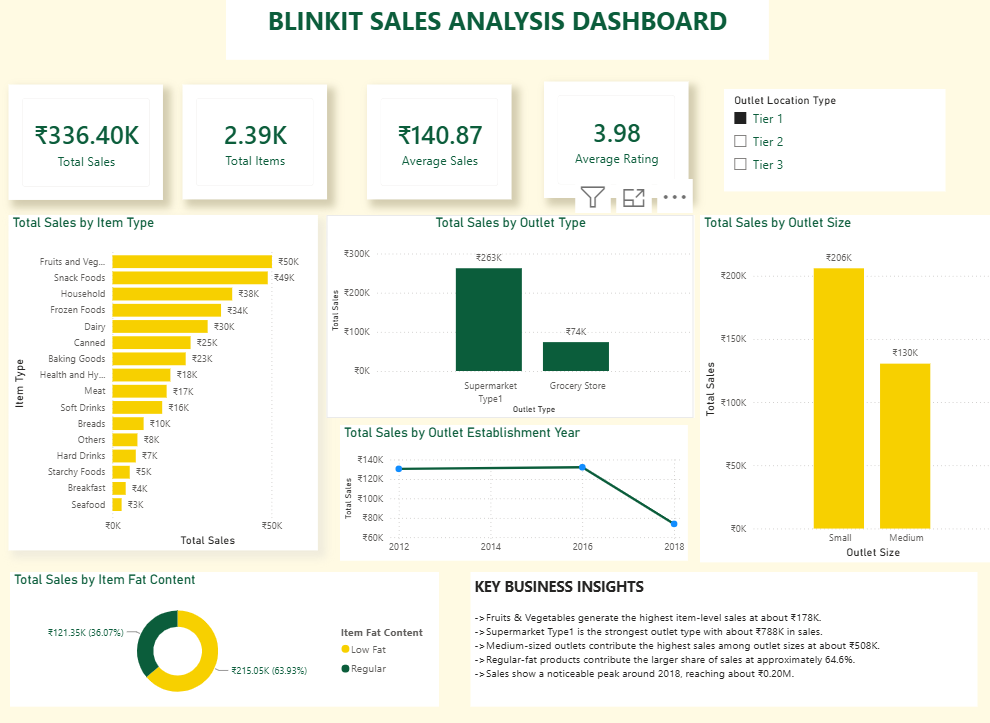

The page's visual inventory and layout, read from the dashboard file:
{"tool":"powerbi","page":{"name":"Page 1","canvas":[1280,930],"ordinal":0},"visuals":[{"type":"cardVisual","fields":{"Data":["blinkit_cleaned.Total Sales"]},"box":[13.5,109.6,198.1,148.1],"z":0},{"type":"cardVisual","fields":{"Data":["blinkit_cleaned.Average Sales"]},"box":[472.5,108.8,185.2,147.4],"z":1},{"type":"cardVisual","fields":{"Data":["blinkit_cleaned.Average Rating"]},"box":[700,106.2,185.2,149.3],"z":2},{"type":"cardVisual","fields":{"Data":["blinkit_cleaned.Total Items"]},"box":[236.2,108.8,185.2,147.4],"z":3},{"type":"textbox","box":[292,0,696,78],"z":4},{"type":"clusteredBarChart","title":"Total Sales by Item Type","fields":{"Category":["blinkit_cleaned.Item Type"],"Y":["blinkit_cleaned.Total Sales"]},"box":[14,276,396.7,430],"z":5},{"type":"clusteredColumnChart","fields":{"Y":["blinkit_cleaned.Total Sales"],"Category":["blinkit_cleaned.Outlet Type"]},"box":[421.2,276.2,472,260],"z":6},{"type":"clusteredColumnChart","fields":{"Category":["blinkit_cleaned.Outlet Size"],"Y":["blinkit_cleaned.Total Sales"]},"box":[900,277.5,380,445],"z":7},{"type":"donutChart","fields":{"Category":["blinkit_cleaned.Item Fat Content"],"Y":["blinkit_cleaned.Total Sales"]},"box":[15,735,550,172.5],"z":8},{"type":"lineChart","fields":{"Category":["blinkit_cleaned.Outlet Establishment Year"],"Y":["blinkit_cleaned.Total Sales"]},"box":[438.8,546.2,446,174],"z":9},{"type":"slicer","fields":{"Values":["blinkit_cleaned.Outlet Location Type"]},"box":[931.2,116.2,283.8,131.2],"z":10},{"type":"textbox","box":[605,735,650,172.5],"z":11}]}

Visuals, with their boxes in screenshot pixels (x1, y1, x2, y2), scaled from the page's 1280x930 canvas onto the 990x723 screenshot:
cardVisual - blinkit_cleaned.Total Sales: select_region(10, 85, 164, 200)
cardVisual - blinkit_cleaned.Average Sales: select_region(365, 85, 509, 199)
cardVisual - blinkit_cleaned.Average Rating: select_region(541, 83, 685, 199)
cardVisual - blinkit_cleaned.Total Items: select_region(183, 85, 326, 199)
textbox: select_region(226, 0, 764, 61)
"Total Sales by Item Type" clusteredBarChart: select_region(11, 215, 318, 549)
clusteredColumnChart - blinkit_cleaned.Total Sales x blinkit_cleaned.Outlet Type: select_region(326, 215, 691, 417)
clusteredColumnChart - blinkit_cleaned.Outlet Size x blinkit_cleaned.Total Sales: select_region(696, 216, 989, 562)
donutChart - blinkit_cleaned.Item Fat Content x blinkit_cleaned.Total Sales: select_region(12, 571, 437, 706)
lineChart - blinkit_cleaned.Outlet Establishment Year x blinkit_cleaned.Total Sales: select_region(339, 425, 684, 560)
slicer - blinkit_cleaned.Outlet Location Type: select_region(720, 90, 940, 192)
textbox: select_region(468, 571, 971, 706)
